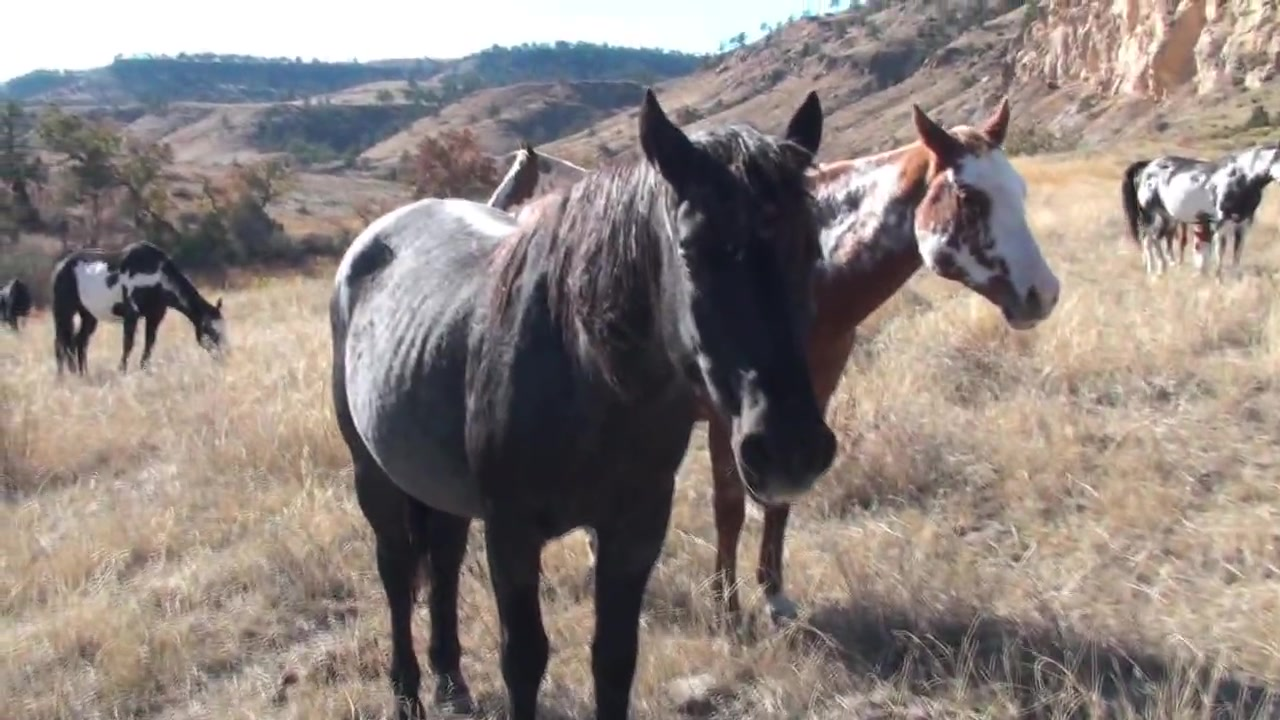horse: (327, 87, 844, 720)
